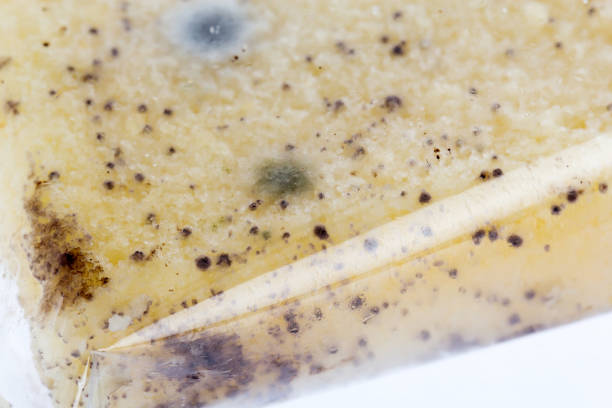mold_bread: (135, 302, 308, 399), (19, 163, 111, 305), (161, 4, 271, 64), (243, 146, 331, 211), (102, 150, 153, 196), (81, 96, 117, 141), (134, 102, 177, 137), (60, 54, 105, 87), (465, 225, 524, 249), (349, 292, 391, 325), (546, 181, 582, 217), (374, 32, 413, 61), (190, 250, 242, 270), (127, 247, 168, 266), (308, 220, 338, 244), (377, 95, 408, 114), (412, 187, 437, 206), (479, 165, 505, 182), (175, 221, 197, 241), (84, 23, 108, 40), (144, 210, 162, 228)
